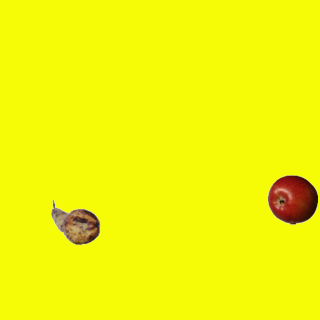Apple Braeburn: (267, 174, 317, 224)
Pear Abate: (50, 197, 100, 247)
